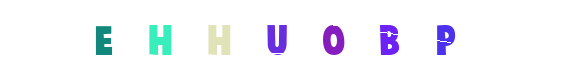B: (303, 0, 383, 80)
E: (63, 0, 143, 80)
H: (119, 0, 199, 80), (175, 0, 255, 80)
O: (293, 0, 373, 80)
P: (328, 0, 408, 80)
U: (254, 0, 334, 80)
